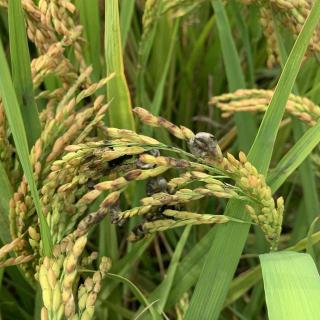Gosong-Palsu: (144, 178, 181, 220), (187, 130, 218, 160), (134, 146, 160, 170), (108, 205, 126, 227)
